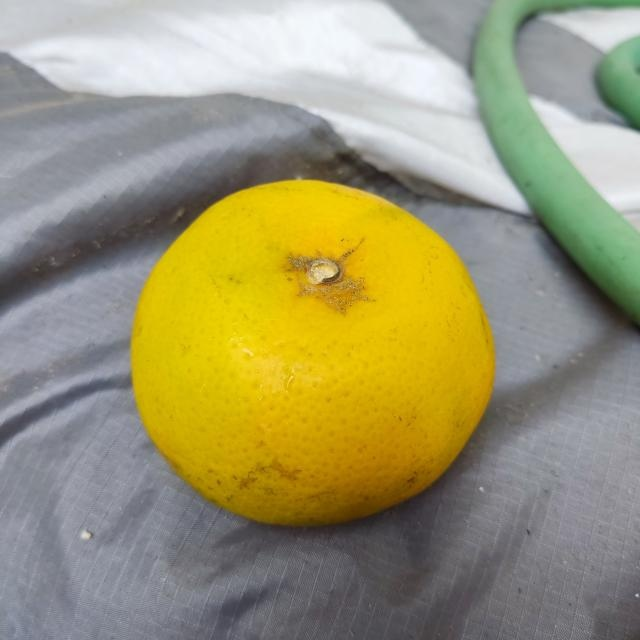agrume: (121, 176, 499, 534)
